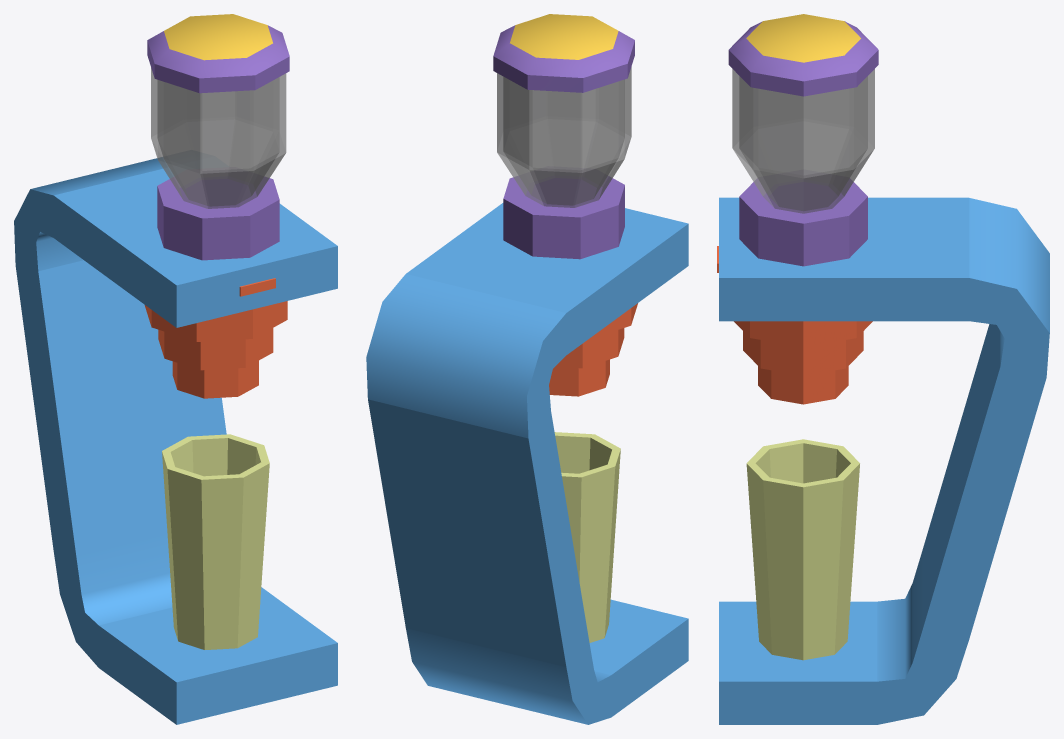
Rendered from Grinder lv2.fbx.
3 renders of one model, left to right at view 1: azimuth 30°, elevation 25°; view 2: azimuth 150°, elevation 25°; view 3: azimuth 270°, elevation 25°, orthographic. The views are drawn at different scales.
Parts seen in each view (by area): view 1: Grinder_lv2; view 2: Grinder_lv2; view 3: Grinder_lv2.
Boxes of the visible parts, x1=… form: Grinder_lv2: x1=14, y1=14, x2=337, y2=724; Grinder_lv2: x1=366, y1=14, x2=688, y2=724; Grinder_lv2: x1=717, y1=14, x2=1049, y2=724.
Bounding box in the file's own units: 38.23 × 144 × 67.11.
